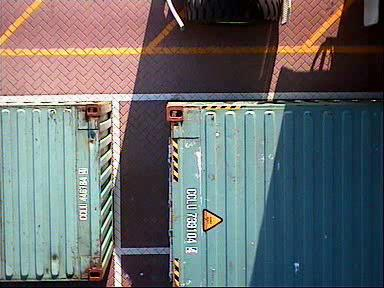groundmarker_2: (28, 35, 82, 69), (30, 175, 84, 209), (29, 3, 82, 37)
